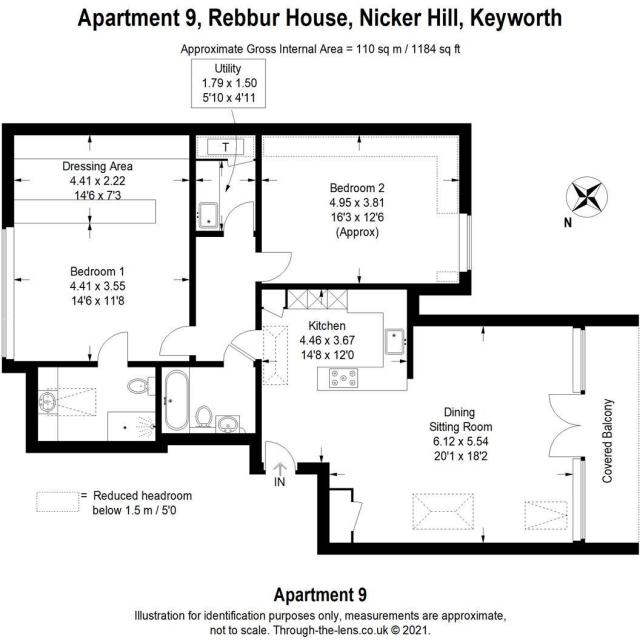DOOR: (253, 249, 294, 285), (156, 323, 198, 358), (264, 436, 300, 476), (95, 329, 130, 369), (222, 198, 255, 240), (227, 327, 264, 362), (220, 341, 264, 370)
DOUBLE DOOR: (545, 390, 588, 459)
ROOM: (217, 282, 590, 557), (0, 117, 201, 379), (252, 121, 474, 297)
WINDOW: (0, 225, 18, 362), (454, 207, 476, 276)
